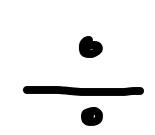div: (24, 36, 144, 126)
